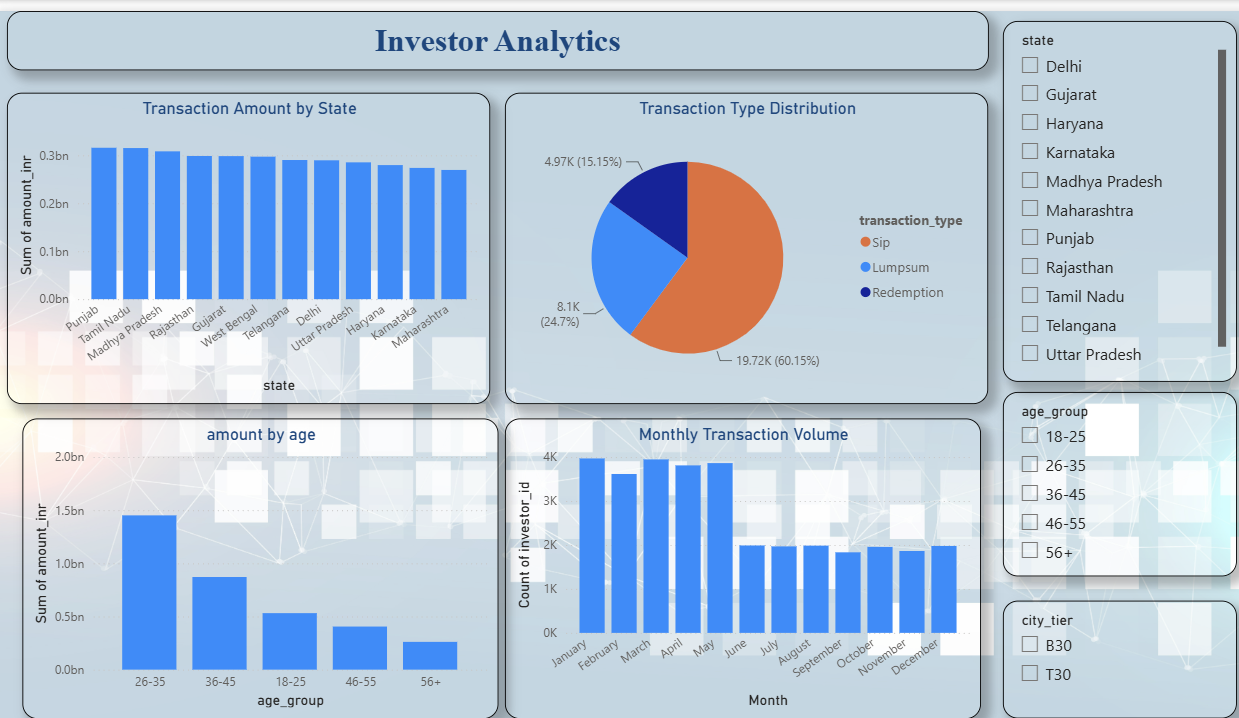

The page's visual inventory and layout, read from the dashboard file:
{"tool":"powerbi","page":{"name":"Page 3","canvas":[1280,720],"ordinal":2},"visuals":[{"type":"textbox","box":[10,0,987.8,60],"z":0},{"type":"clusteredColumnChart","title":"Transaction Amount by State","fields":{"Y":["Sum(08_investor_transactions_cleaned.amount_inr)"],"Category":["08_investor_transactions_cleaned.state"]},"box":[10.1,82.2,486.7,313.2],"z":1},{"type":"pieChart","title":"Transaction Type Distribution","fields":{"Category":["08_investor_transactions_cleaned.transaction_type"],"Y":["CountNonNull(08_investor_transactions_cleaned.investor_id)"]},"box":[511.1,82.2,486.7,313.3],"z":2},{"type":"clusteredColumnChart","title":"amount by age","fields":{"Category":["08_investor_transactions_cleaned.age_group"],"Y":["Sum(08_investor_transactions_cleaned.amount_inr)"]},"box":[25.6,410,478.9,302.2],"z":3},{"type":"clusteredColumnChart","title":"Monthly Transaction Volume","fields":{"Category":["08_investor_transactions_cleaned.transaction_date.Variation.Date Hierarchy.Month"],"Y":["CountNonNull(08_investor_transactions_cleaned.investor_id)"]},"box":[511.1,410,478.9,302.2],"z":4},{"type":"slicer","title":"NAV VS BENCHMARK","fields":{"Values":["08_investor_transactions_cleaned.state"]},"box":[1012.2,10,235.6,363.3],"z":5},{"type":"slicer","title":"NAV VS BENCHMARK","fields":{"Values":["08_investor_transactions_cleaned.age_group"]},"box":[1012.2,383.3,235.6,185.6],"z":6},{"type":"slicer","title":"NAV VS BENCHMARK","fields":{"Values":["08_investor_transactions_cleaned.city_tier"]},"box":[1012.2,593.3,235.6,118.9],"z":7}]}

Visuals, with their boxes in screenshot pixels (x1, y1, x2, y2), scaled from the page's 1280x720 canvas onto the 1239x718 screenshot:
textbox: rect(10, 0, 966, 60)
"Transaction Amount by State" clusteredColumnChart: rect(10, 82, 481, 394)
"Transaction Type Distribution" pieChart: rect(495, 82, 966, 394)
"amount by age" clusteredColumnChart: rect(25, 409, 488, 710)
"Monthly Transaction Volume" clusteredColumnChart: rect(495, 409, 958, 710)
"NAV VS BENCHMARK" slicer: rect(980, 10, 1208, 372)
"NAV VS BENCHMARK" slicer: rect(980, 382, 1208, 567)
"NAV VS BENCHMARK" slicer: rect(980, 592, 1208, 710)
